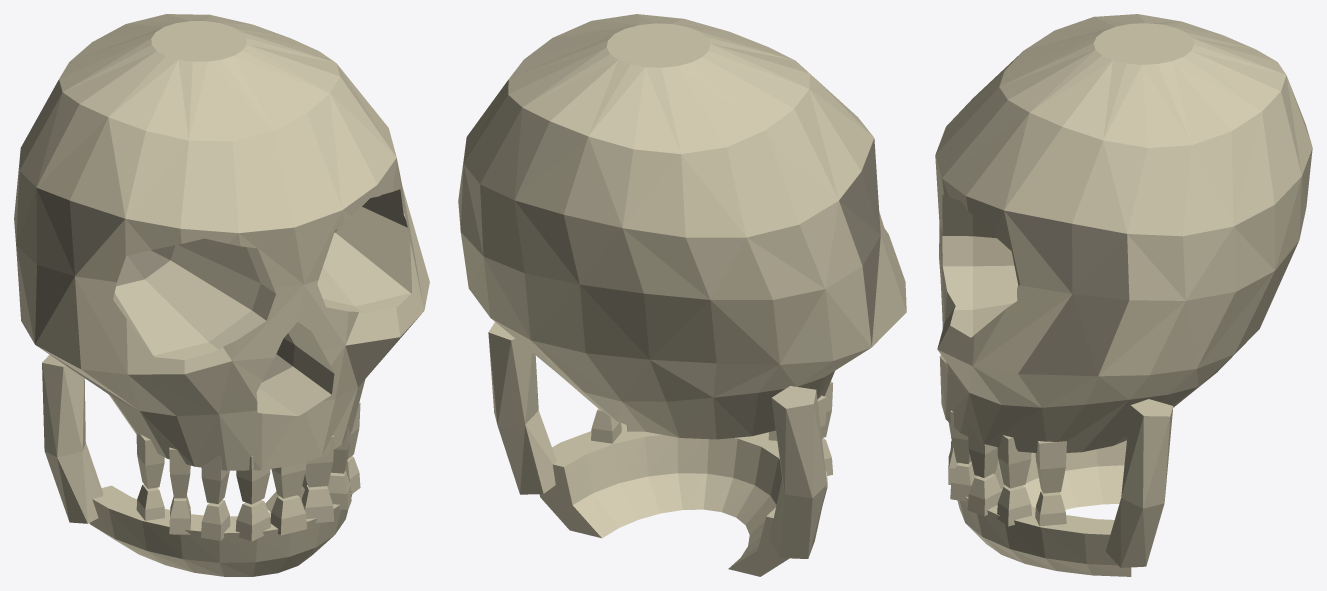
The model's file is PROP_14_Skull.glb.
The picture shows the model from 3 angles, left to right: view 1: azimuth 30°, elevation 25°; view 2: azimuth 150°, elevation 25°; view 3: azimuth 270°, elevation 25°; orthographic projection. The views are drawn at different scales.
Visible parts, largest first — view 1: PROP_14_Skull; view 2: PROP_14_Skull; view 3: PROP_14_Skull.
Part boxes in pixels (box(x1,y1,x2,y2)): PROP_14_Skull: box(14, 14, 429, 576); PROP_14_Skull: box(458, 14, 906, 576); PROP_14_Skull: box(935, 14, 1312, 576).
Bounding box in the file's own units: 0.4097 × 0.514 × 0.3598.
